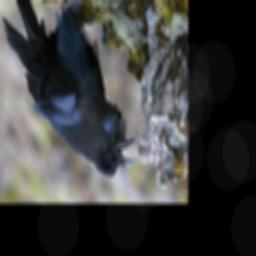Crow: (2, 0, 138, 178)
